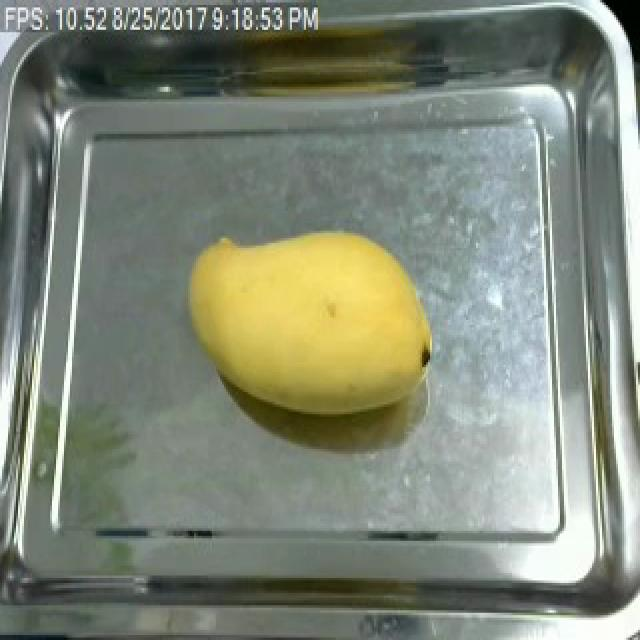fruit: (172, 216, 442, 427)
